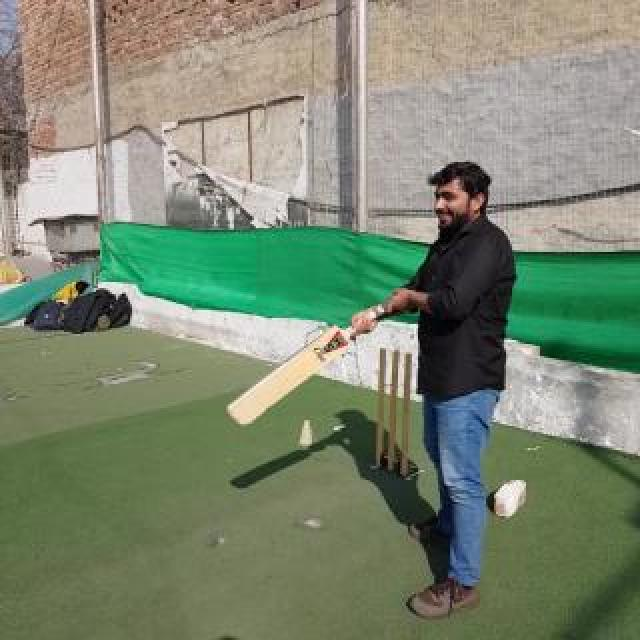bat: (226, 304, 388, 426)
